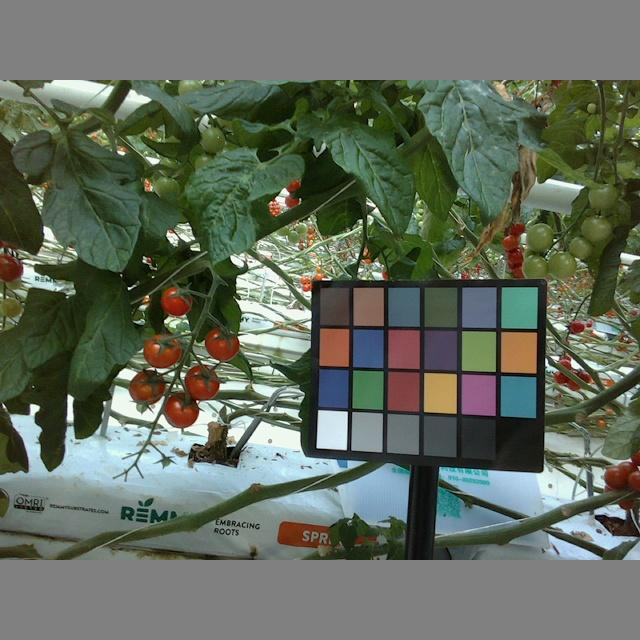green: (525, 223, 556, 258), (587, 182, 619, 212), (580, 215, 613, 244), (549, 250, 578, 280), (520, 257, 550, 281), (566, 234, 592, 260)
red: (183, 363, 221, 401), (161, 391, 200, 427), (128, 368, 165, 405), (142, 334, 181, 368), (204, 326, 240, 362), (161, 288, 194, 317)
